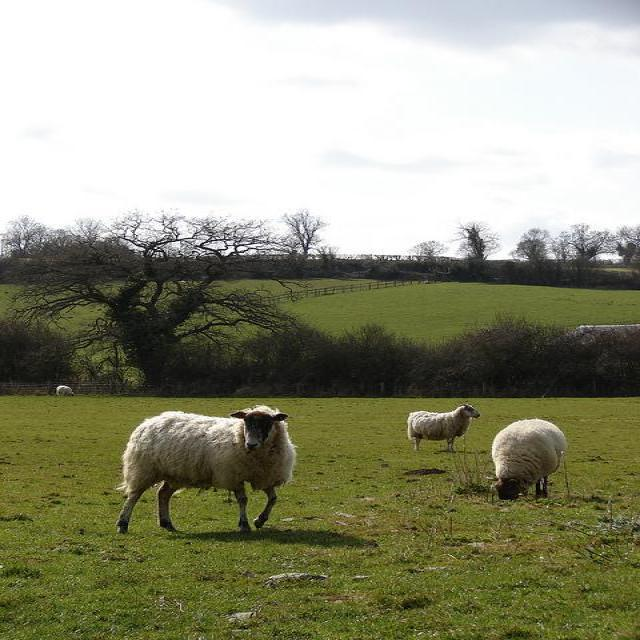Sheep: (114, 406, 298, 536), (492, 419, 569, 500), (408, 406, 480, 454)
